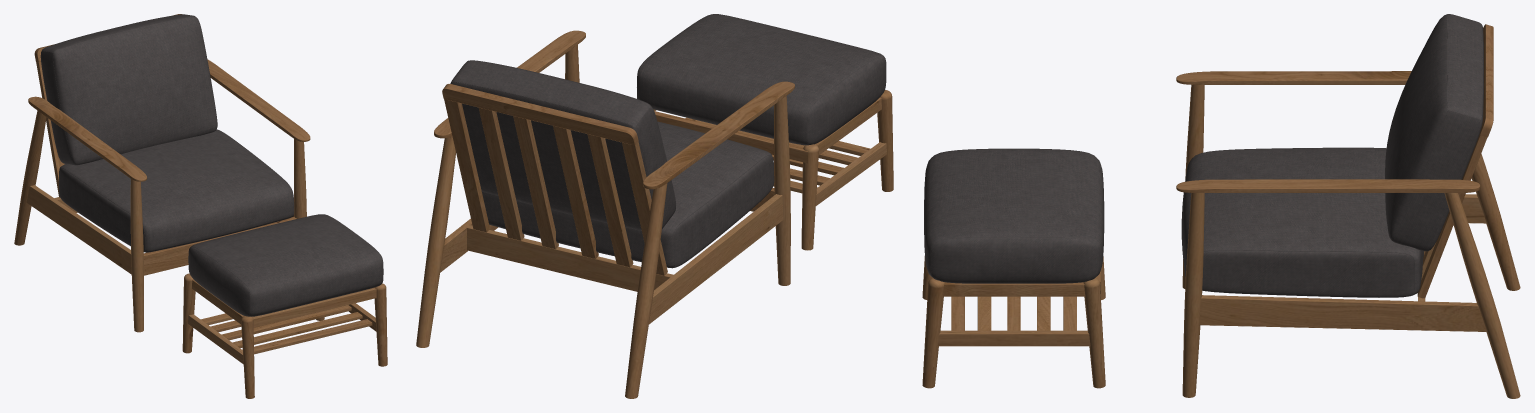
Rendered from chair_67_02.001.fbx.
3 renders of one model, left to right at view 1: azimuth 30°, elevation 25°; view 2: azimuth 150°, elevation 25°; view 3: azimuth 270°, elevation 25°, orthographic. The views are drawn at different scales.
Visible parts, largest first — view 1: chair_67_02.001; view 2: chair_67_02.001; view 3: chair_67_02.001.
Part boxes in pixels (<box>): chair_67_02.001: <box>14,14,387,398</box>; chair_67_02.001: <box>416,14,893,398</box>; chair_67_02.001: <box>922,14,1520,398</box>.
Size of the model in its own units: 76.92 by 87.2 by 165.
Materials: 1 (1 with a texture image).
